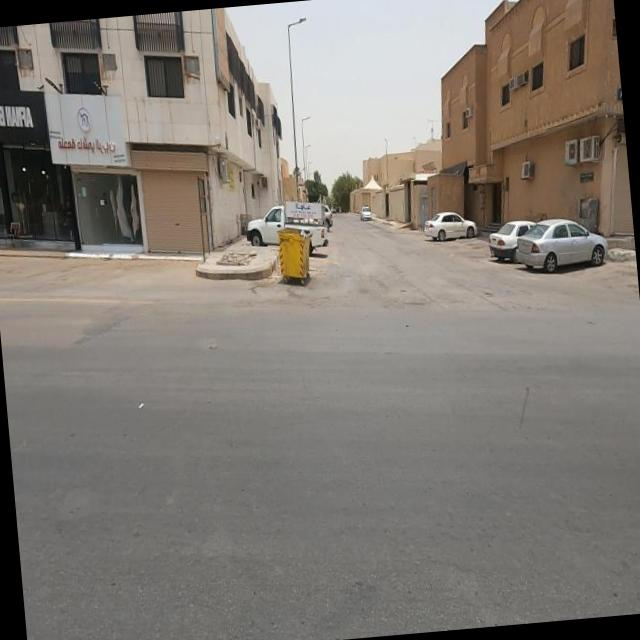debris: (283, 195, 324, 268)
